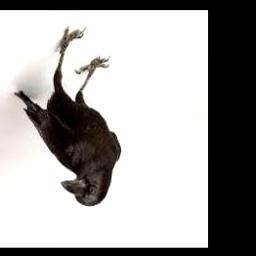Crow: (15, 25, 122, 208)
